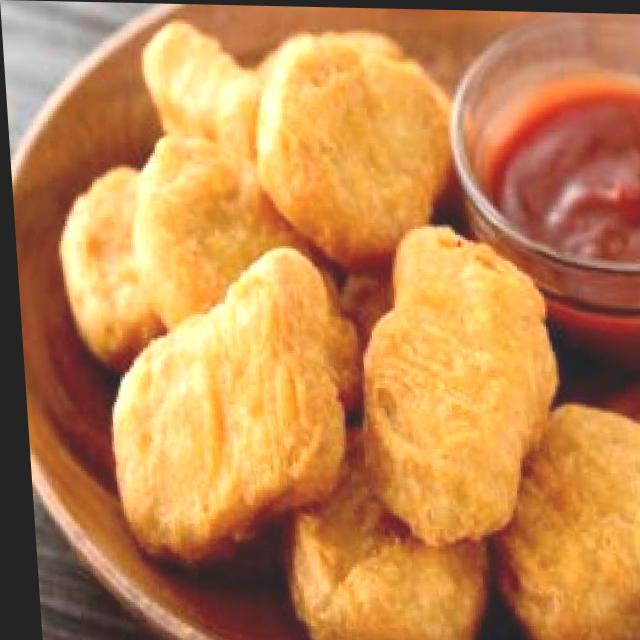chicken_nuggets: (58, 26, 640, 640)
